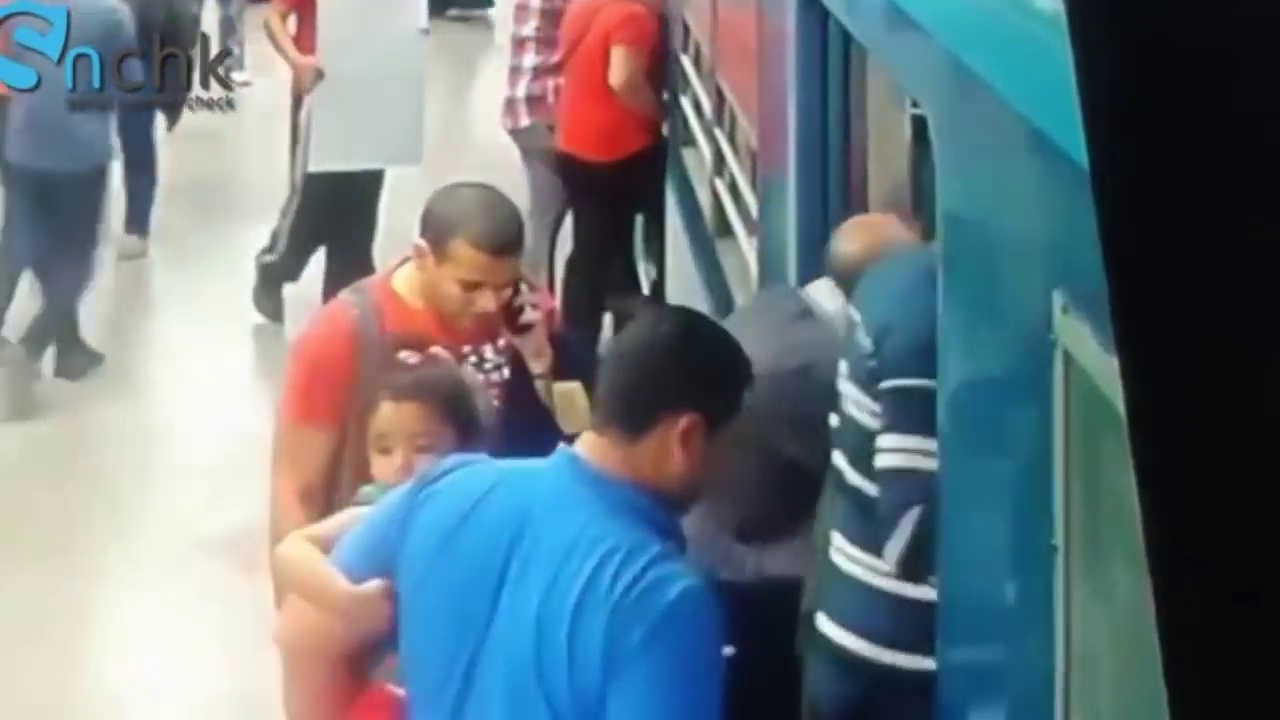face: (427, 234, 522, 335), (369, 398, 455, 482)
